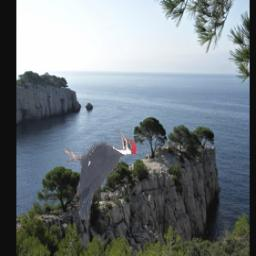Woodpecker: (65, 131, 138, 221)
